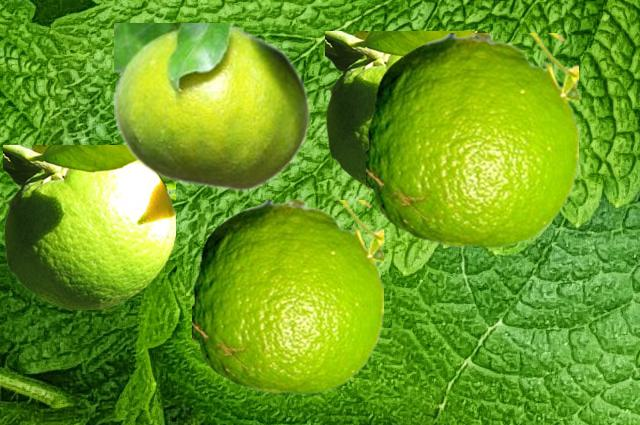dalandan: (366, 33, 577, 247), (192, 200, 382, 393), (114, 23, 310, 191), (3, 145, 174, 308), (325, 31, 489, 191)
